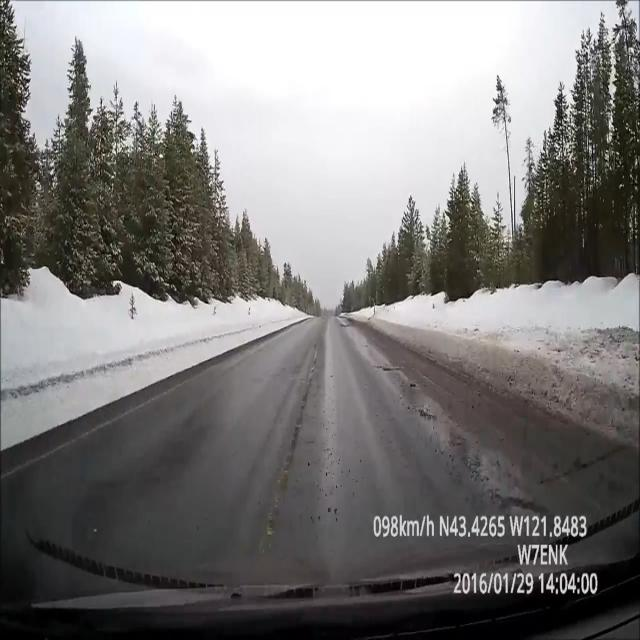Pothole: (496, 455, 560, 552)
